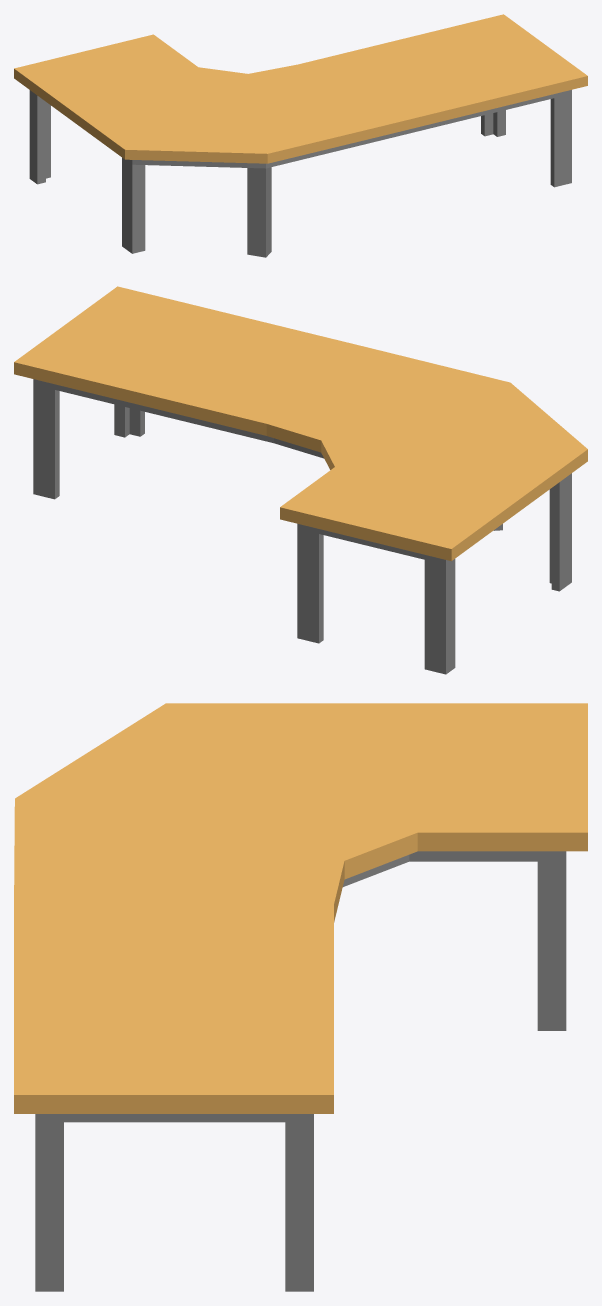
File: table2.fbx
3 renders of one model, top to bottom at view 1: azimuth 30°, elevation 25°; view 2: azimuth 150°, elevation 25°; view 3: azimuth 270°, elevation 25°, orthographic. The views are drawn at different scales.
Visible parts, largest first — view 1: table2; view 2: table2; view 3: table2.
Part boxes in pixels (x1,y1,x2,y2): table2: (14, 14, 587, 257); table2: (14, 286, 587, 674); table2: (14, 703, 587, 1291).
Bounding box in the file's own units: 438 × 108 × 271.
